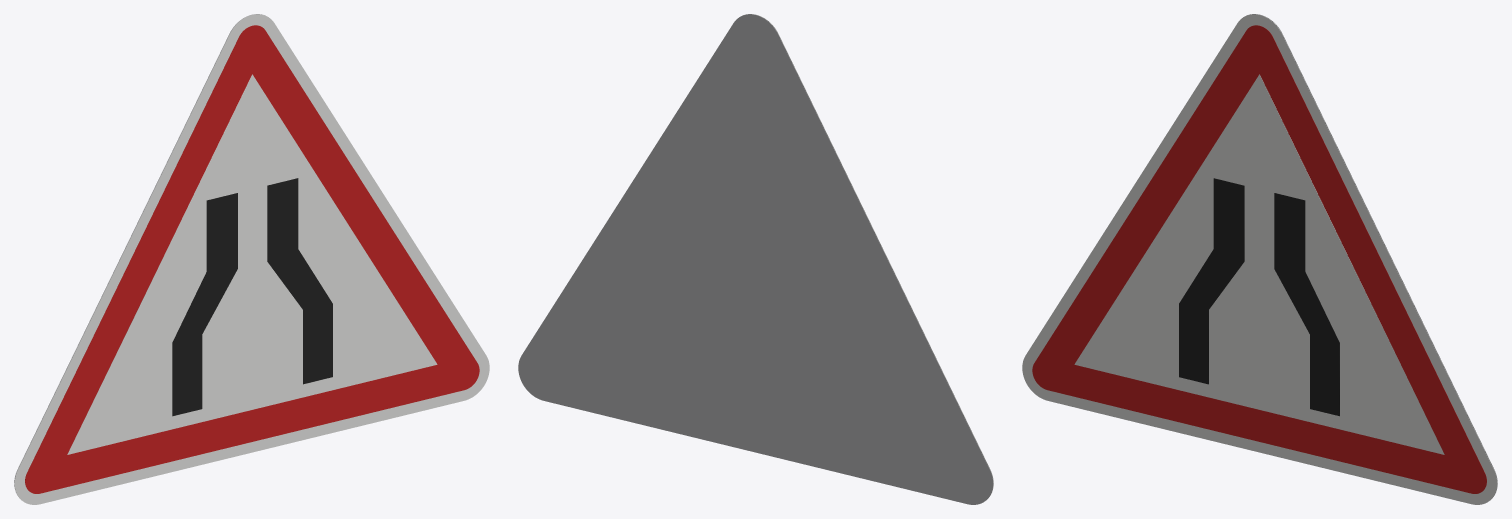
The picture shows the model from 3 angles, left to right: view 1: azimuth 30°, elevation 25°; view 2: azimuth 150°, elevation 25°; view 3: azimuth 330°, elevation 25°; orthographic projection.
Parts seen in each view (by area): view 1: A3_p02, A3_p01, A3_p00, A3_p04, A3_p03, A3_dos; view 2: A3_dos, A3_p00; view 3: A3_p02, A3_p01, A3_p00, A3_p03, A3_p04, A3_dos.
Part boxes in pixels (bbox=[...]): A3_p02: bbox=[67, 74, 437, 454]; A3_p01: bbox=[25, 25, 479, 493]; A3_p00: bbox=[14, 14, 489, 504]; A3_p04: bbox=[172, 193, 237, 416]; A3_p03: bbox=[267, 178, 332, 384]; A3_dos: bbox=[14, 14, 265, 500]; A3_dos: bbox=[518, 14, 993, 504]; A3_p00: bbox=[742, 14, 993, 500]; A3_p02: bbox=[1074, 74, 1444, 454]; A3_p01: bbox=[1032, 25, 1486, 493]; A3_p00: bbox=[1022, 14, 1497, 504]; A3_p03: bbox=[1274, 193, 1339, 416]; A3_p04: bbox=[1179, 178, 1244, 384]; A3_dos: bbox=[1246, 14, 1497, 500].
Size of the model in its own units: 1 by 0.8803 by 0.0035.
